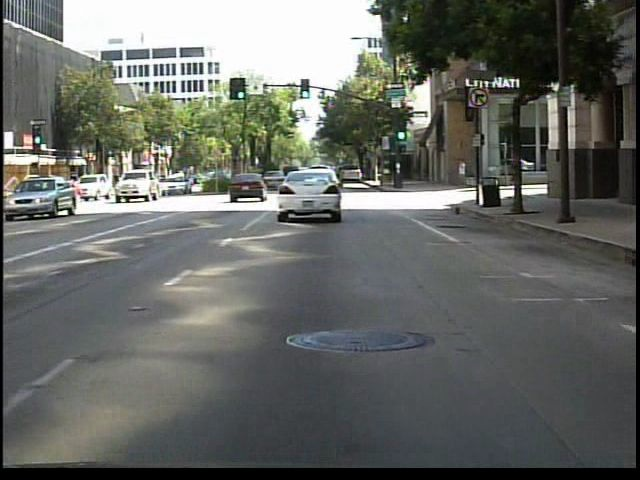person: (453, 155, 470, 194)
